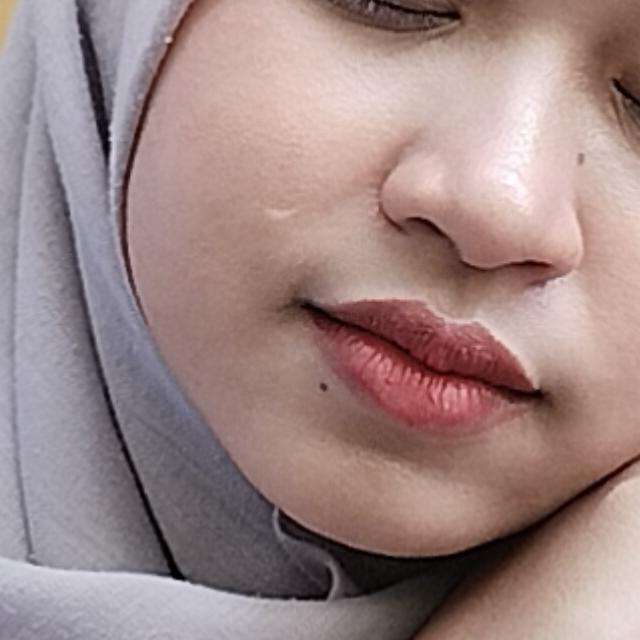tidur: (146, 88, 640, 640)
